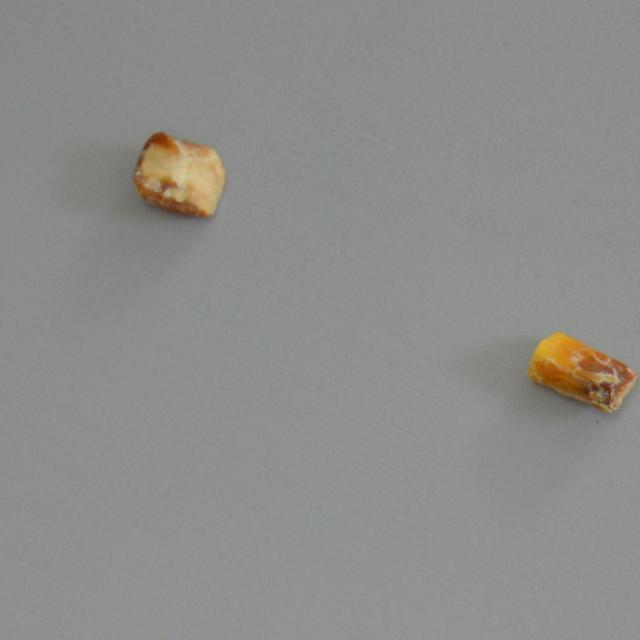dañado: (116, 126, 234, 222), (526, 325, 640, 421)
